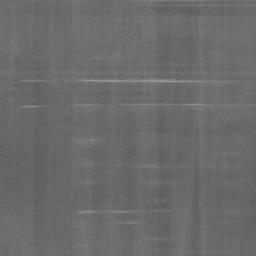Waist folding: (20, 101, 256, 110), (20, 77, 240, 85), (138, 0, 256, 8), (74, 208, 171, 215), (148, 13, 235, 18), (117, 162, 165, 169), (71, 136, 98, 147), (119, 219, 137, 226), (152, 236, 166, 243)
